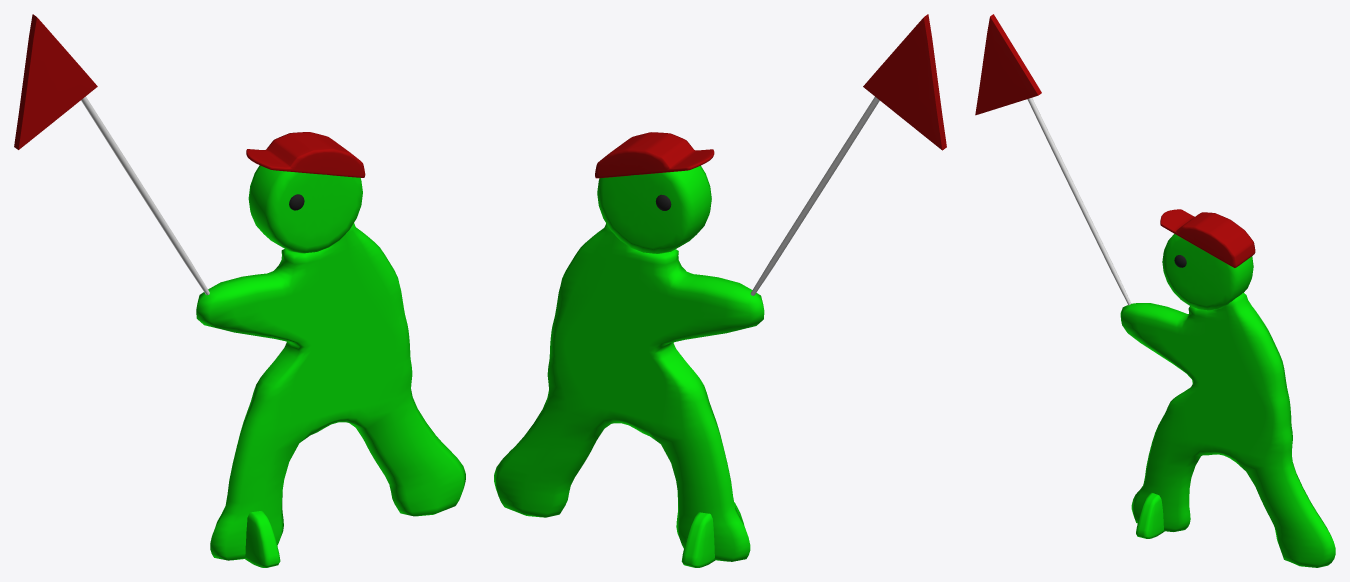
Rendered from Proto_Turtle_01.fbx.
3 views of the same model, side by side, from view 1: azimuth 30°, elevation 25°; view 2: azimuth 150°, elevation 25°; view 3: azimuth 330°, elevation 25° (orthographic). The views are drawn at different scales.
Visible parts, largest first — view 1: pSphere3; view 2: pSphere3; view 3: pSphere3.
Part boxes in pixels (x1,y1,x2,y2): pSphere3: (14, 14, 465, 567); pSphere3: (494, 14, 946, 567); pSphere3: (975, 14, 1335, 567).
Size of the model in its own units: 26.81 by 33.7 by 5.21.
